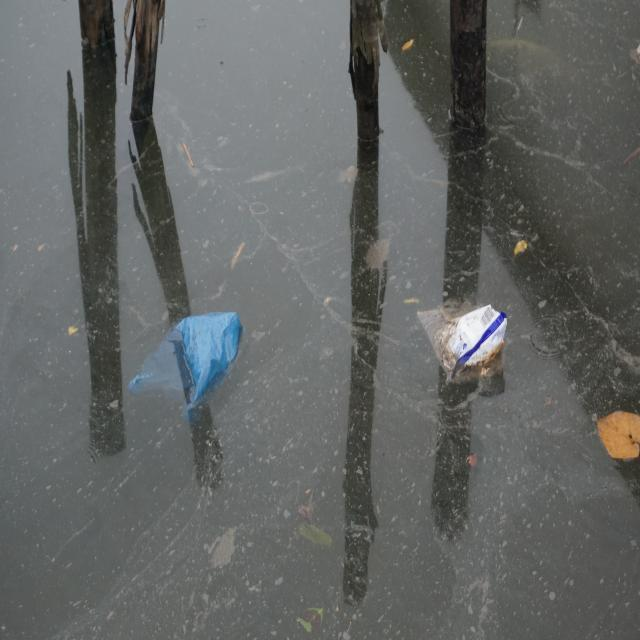Bungkus Makanan: (417, 285, 512, 393)
Kantong Plastik: (129, 309, 247, 429)
